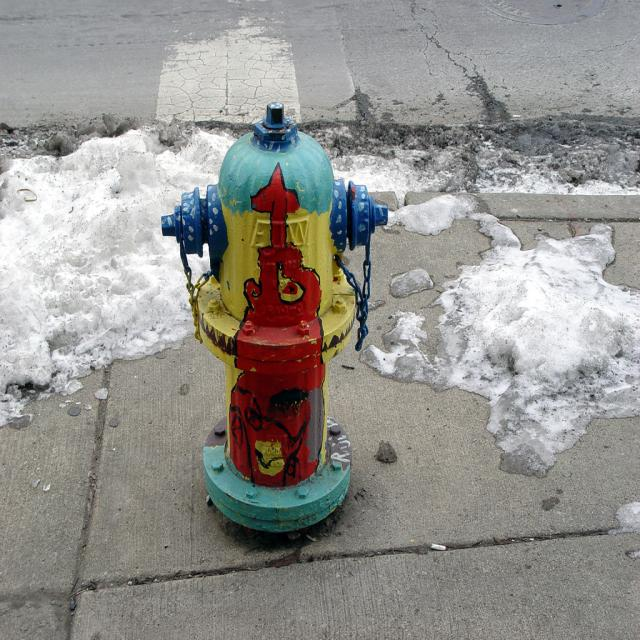fire_hydrant: (161, 103, 389, 536)
